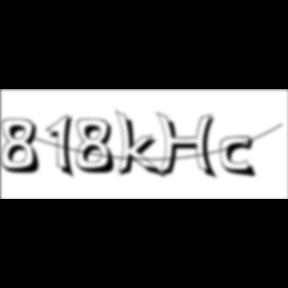1: (46, 114, 80, 182)
8: (76, 117, 122, 176), (1, 117, 46, 176)
H: (156, 112, 222, 182)
c: (220, 136, 260, 180)
k: (114, 108, 168, 181)
